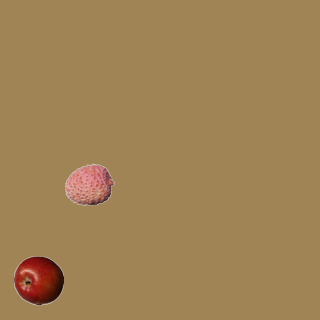Apple Braeburn: (13, 255, 63, 305)
Lychee: (64, 159, 114, 209)
